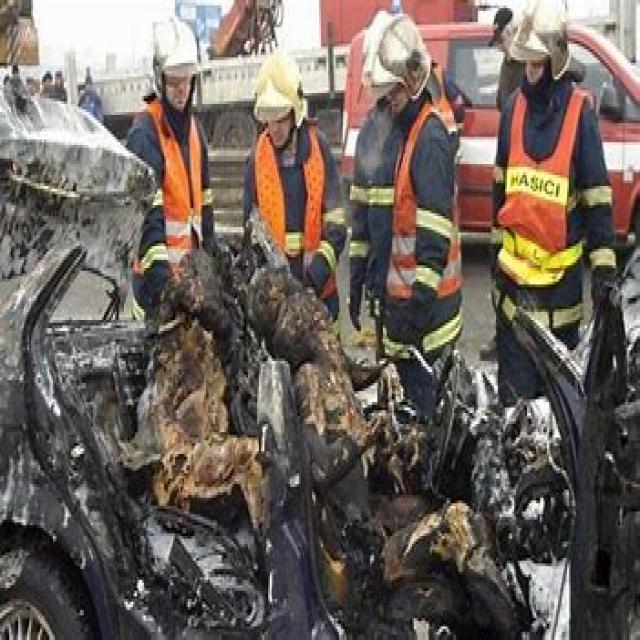Accident: (32, 74, 576, 616)
